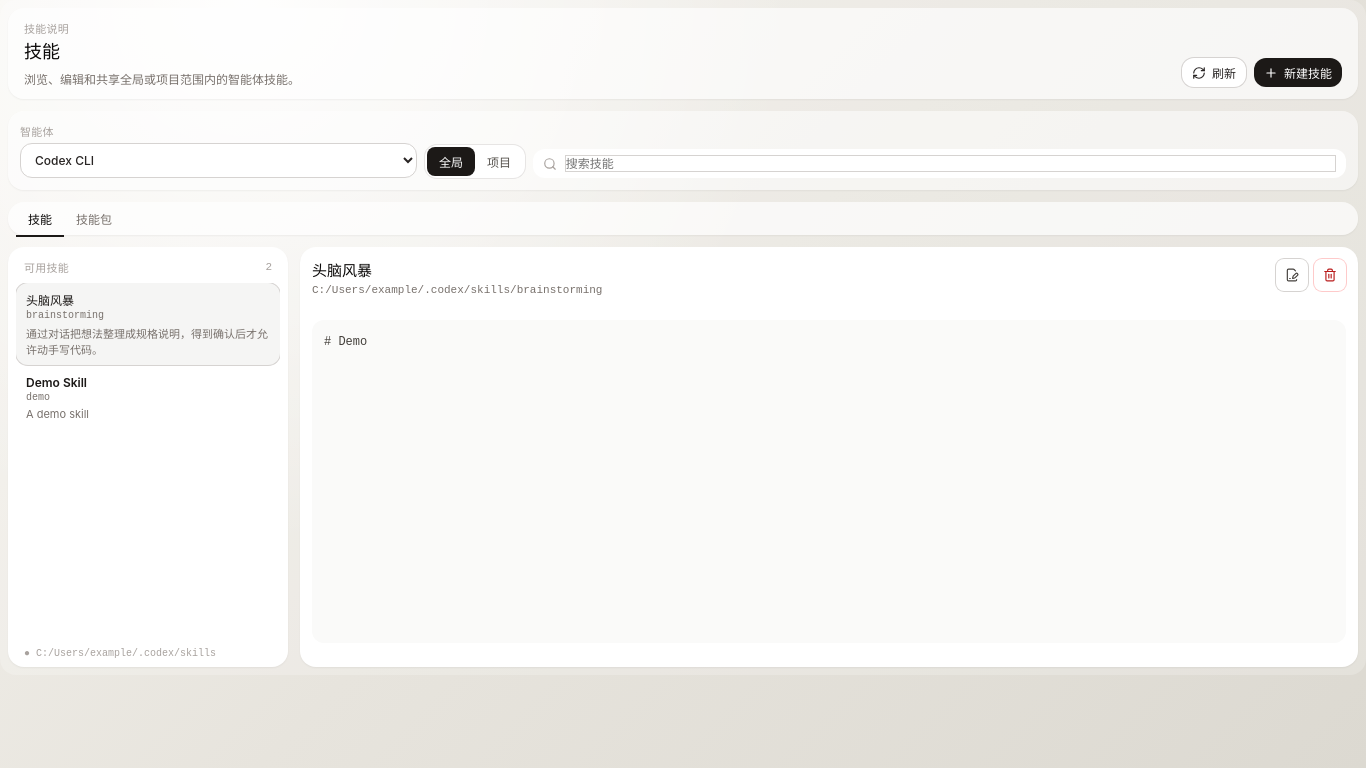
Test: SkillsScreen › filters Skills by their Chinese copy as well as their id
Expected: the text "Demo Skill" is shown, [26,375,87,390]
Type "头脑" into the field named "筛选技能".
click(950, 164); type("头脑")  # box [565,155,1336,172]
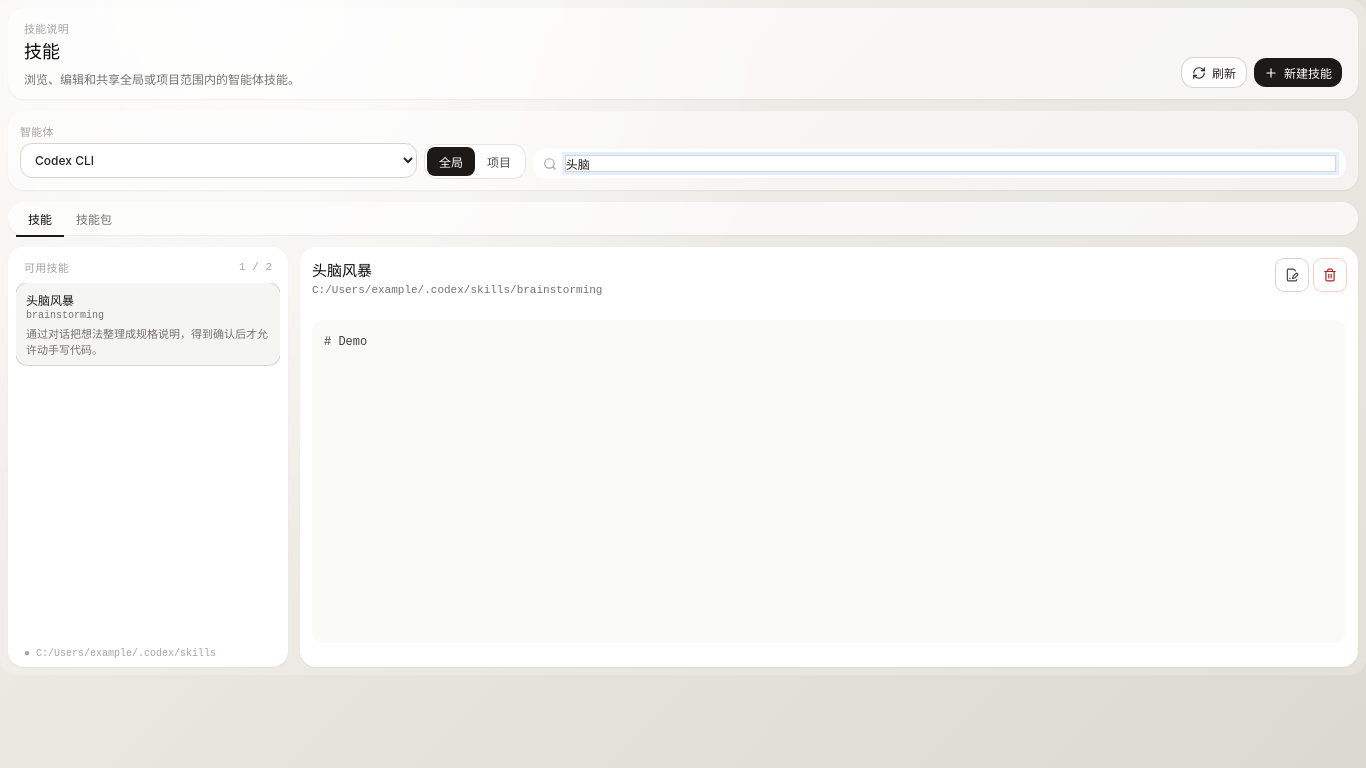
Expected: the text "头脑风暴" is shown, [26,291,74,308]
Expected: the text "1 / 2" is shown, [239,261,272,273]
